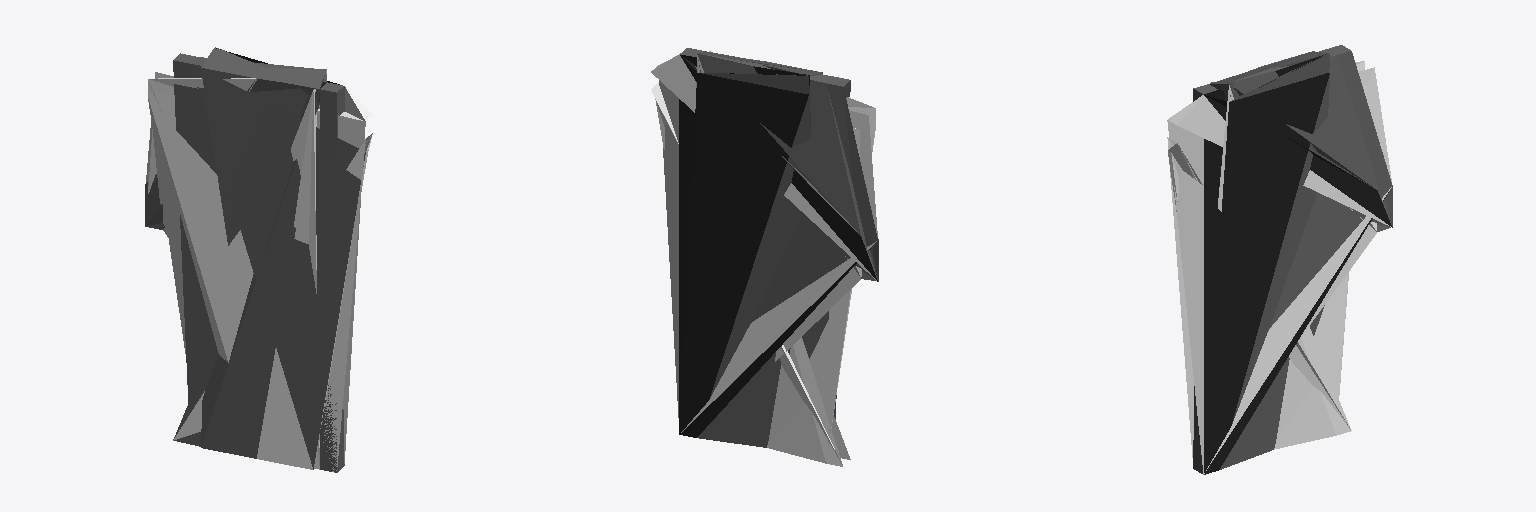
The model's file is Elevator.obj.
The picture shows the model from 3 angles: view 1: azimuth 30°, elevation 25°; view 2: azimuth 210°, elevation 25°; view 3: azimuth 270°, elevation 25°; orthographic projection.
Visible parts, largest first — view 1: Box013, Box012, Box014; view 2: Box013; view 3: Box013.
Part boxes in pixels (x1,y1,x2,y2): Box013: (145,47,372,472); Box012: (320,83,344,472); Box014: (320,82,344,471); Box013: (651,50,878,466); Box013: (1167,45,1392,474).
Bounding box in the file's own units: 68528 × 192692 × 101172.